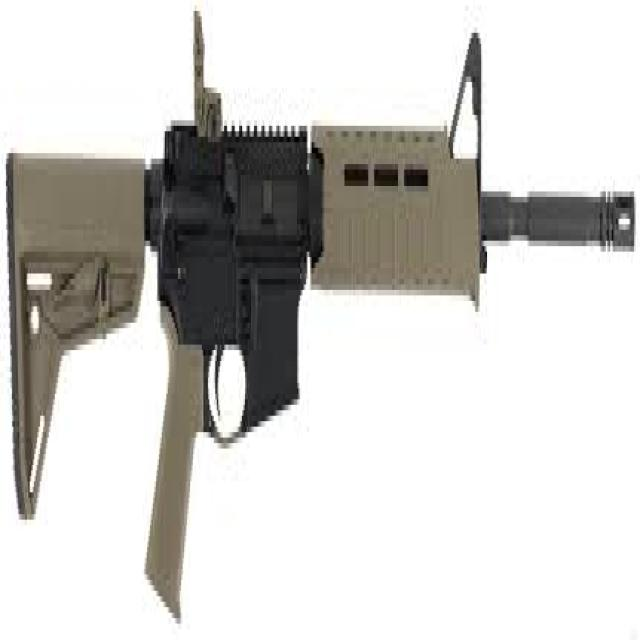rifle: (6, 1, 640, 640)
